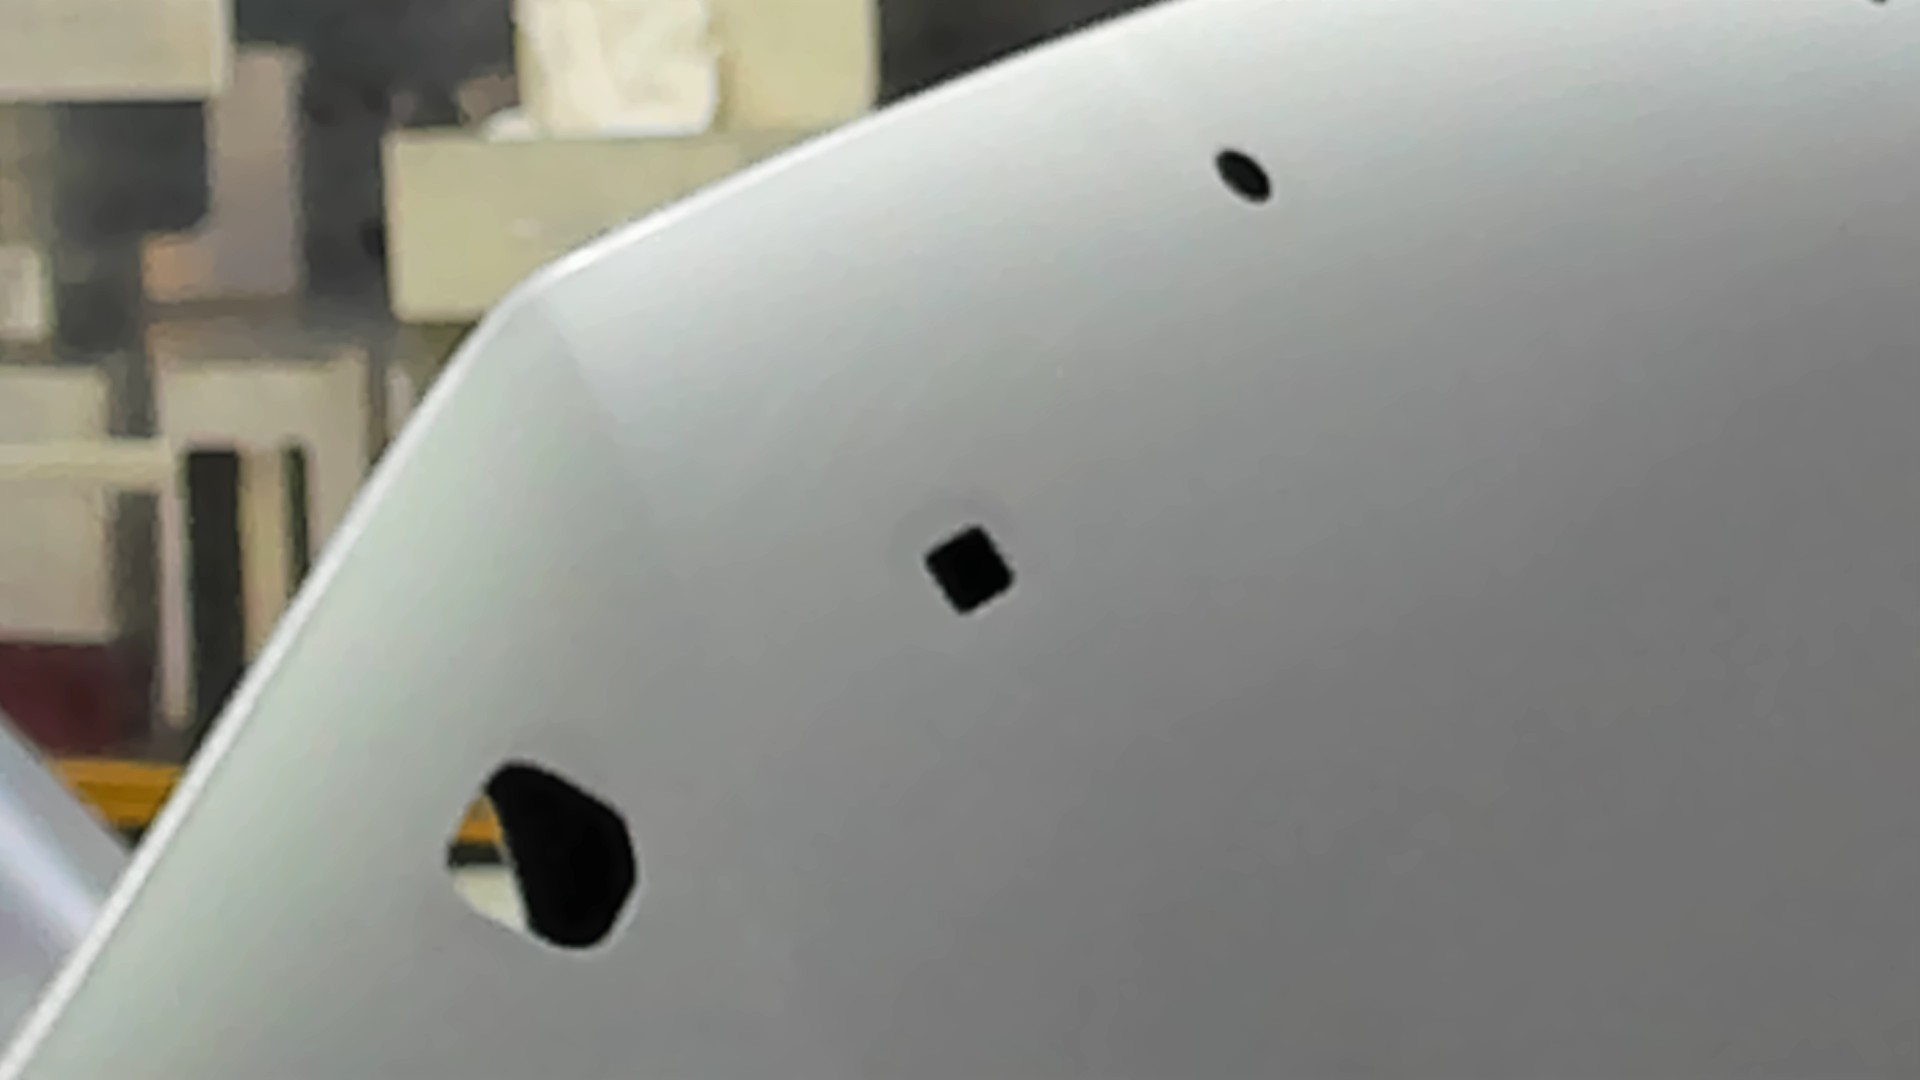capo: (1025, 222, 1920, 1080)
chico: (1208, 144, 1276, 208)
grande: (435, 753, 646, 963)
mediano: (916, 517, 1022, 625)
